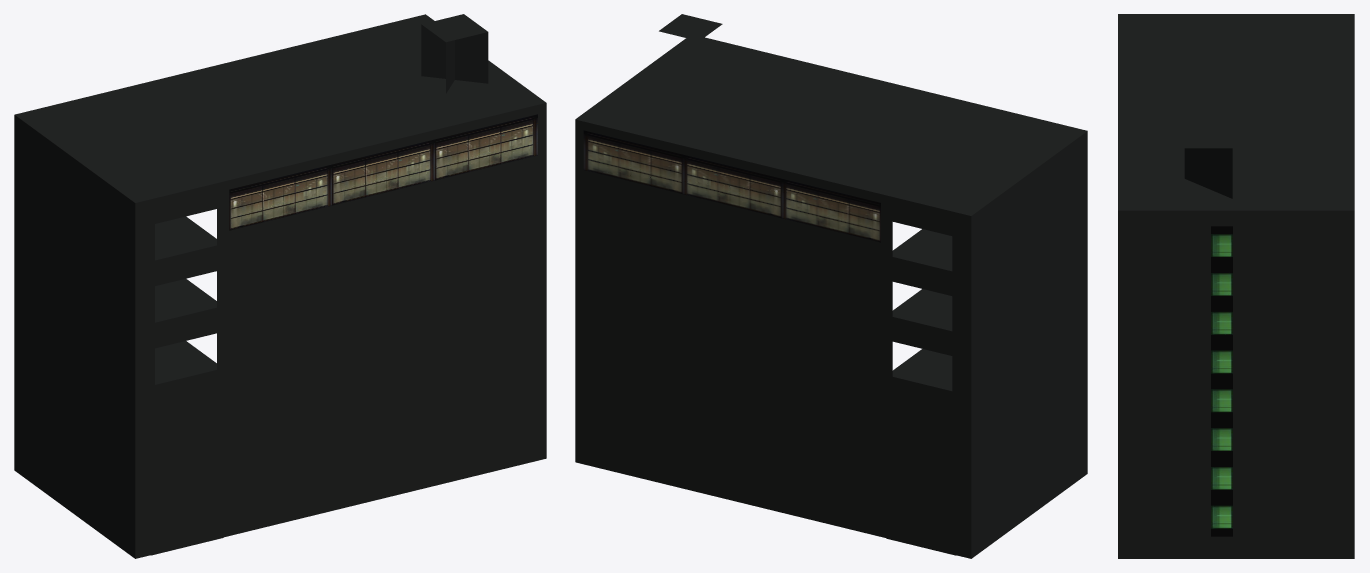
File: AMB_SMOAL.glb
3 renders of one model, left to right at view 1: azimuth 30°, elevation 25°; view 2: azimuth 150°, elevation 25°; view 3: azimuth 270°, elevation 25°, orthographic. The views are drawn at different scales.
Parts seen in each view (by area): view 1: BASE; view 2: BASE; view 3: BASE.
Part boxes in pixels (x1=…): BASE: x1=14, y1=14, x2=546, y2=558; BASE: x1=575, y1=14, x2=1087, y2=558; BASE: x1=1118, y1=14, x2=1354, y2=558.
Bounding box in the file's own units: 208 × 197 × 107.
Materials: 3 (3 with a texture image).
